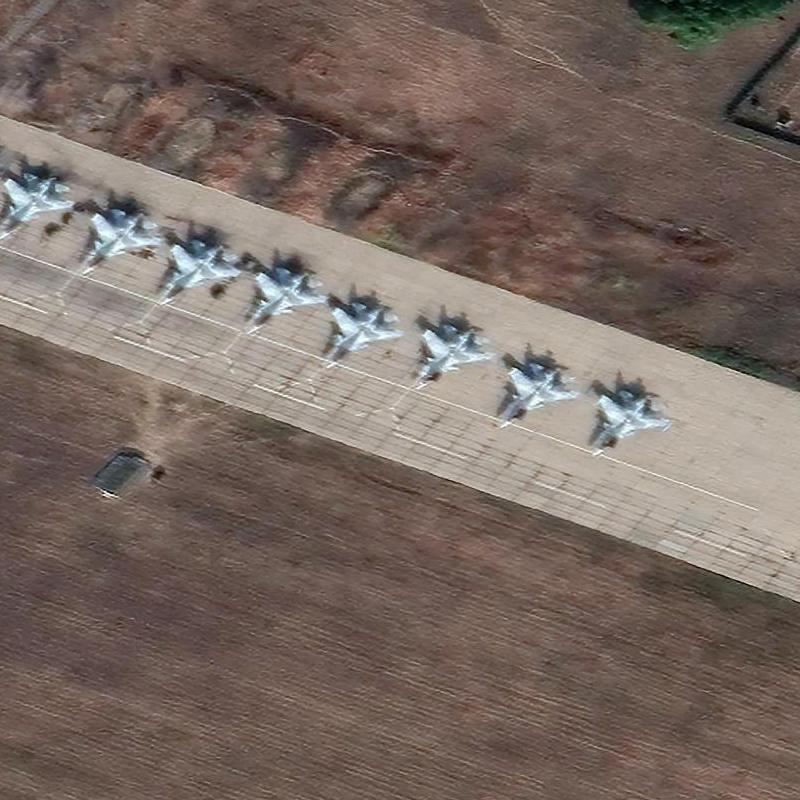A19: (494, 359, 583, 433), (242, 264, 329, 337), (588, 387, 676, 459), (155, 236, 242, 308), (322, 298, 407, 371), (78, 204, 163, 277), (411, 320, 497, 390), (0, 168, 75, 245)
